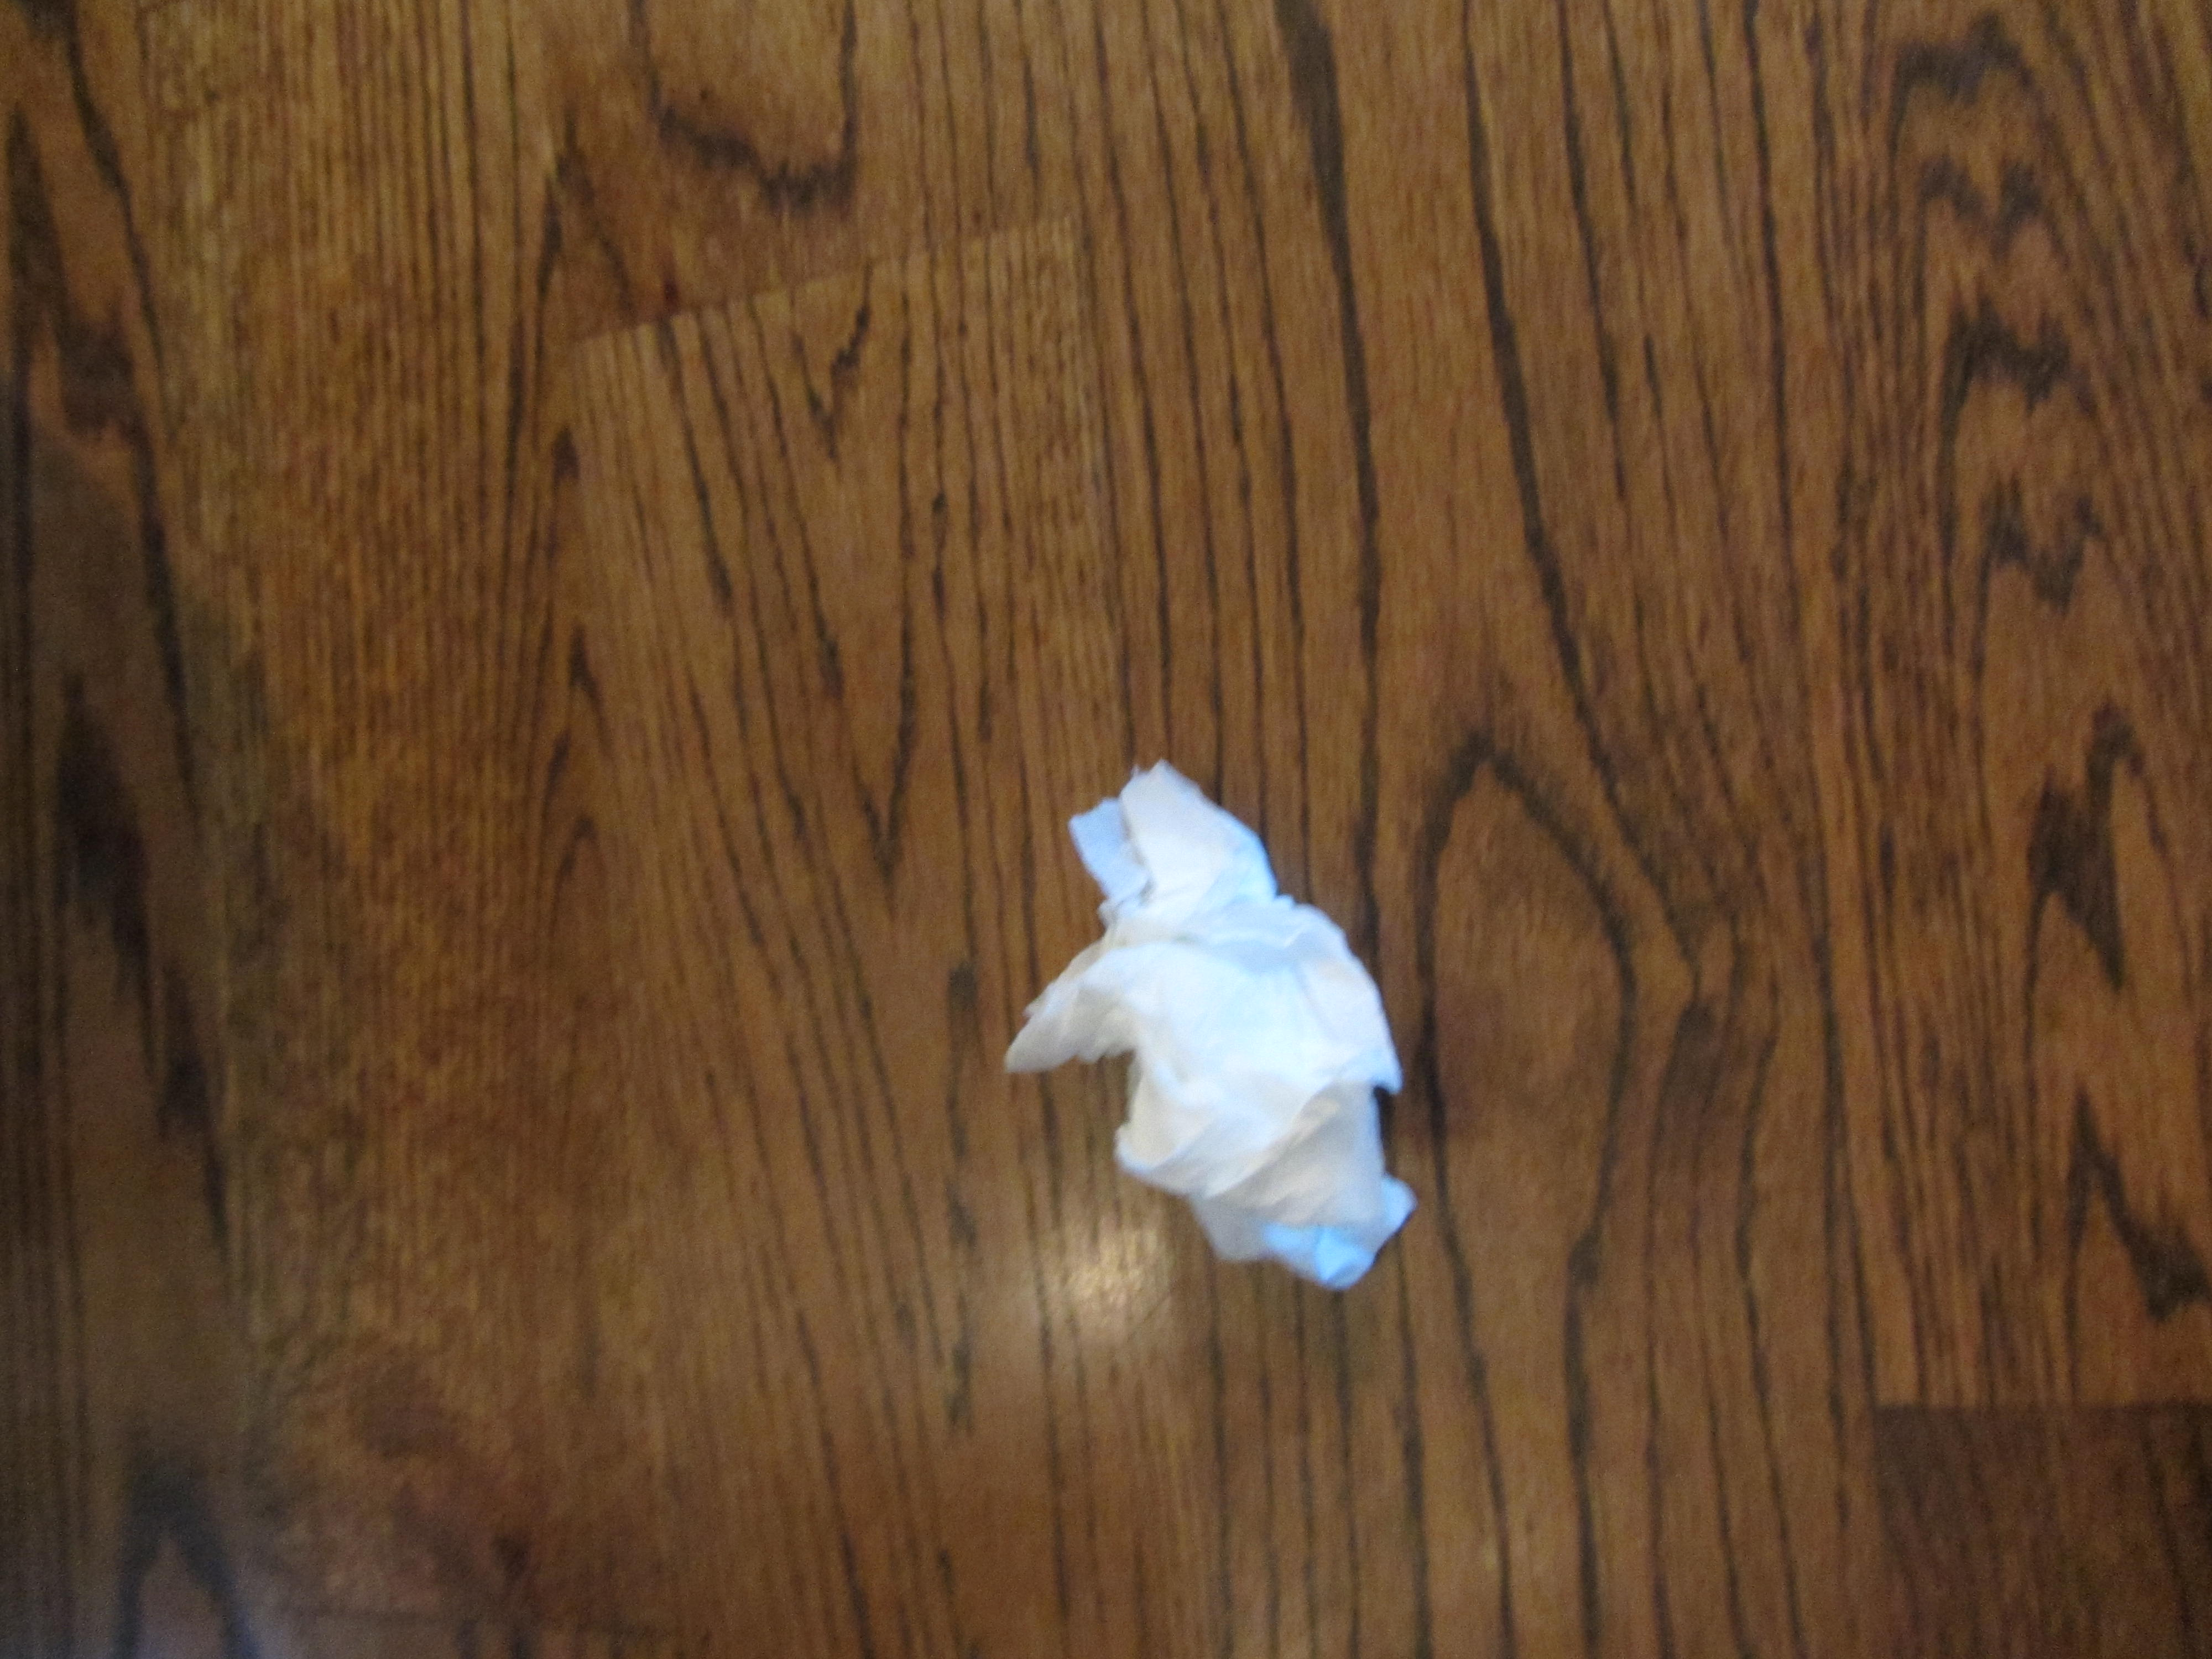tissue: (968, 767, 1474, 1307)
